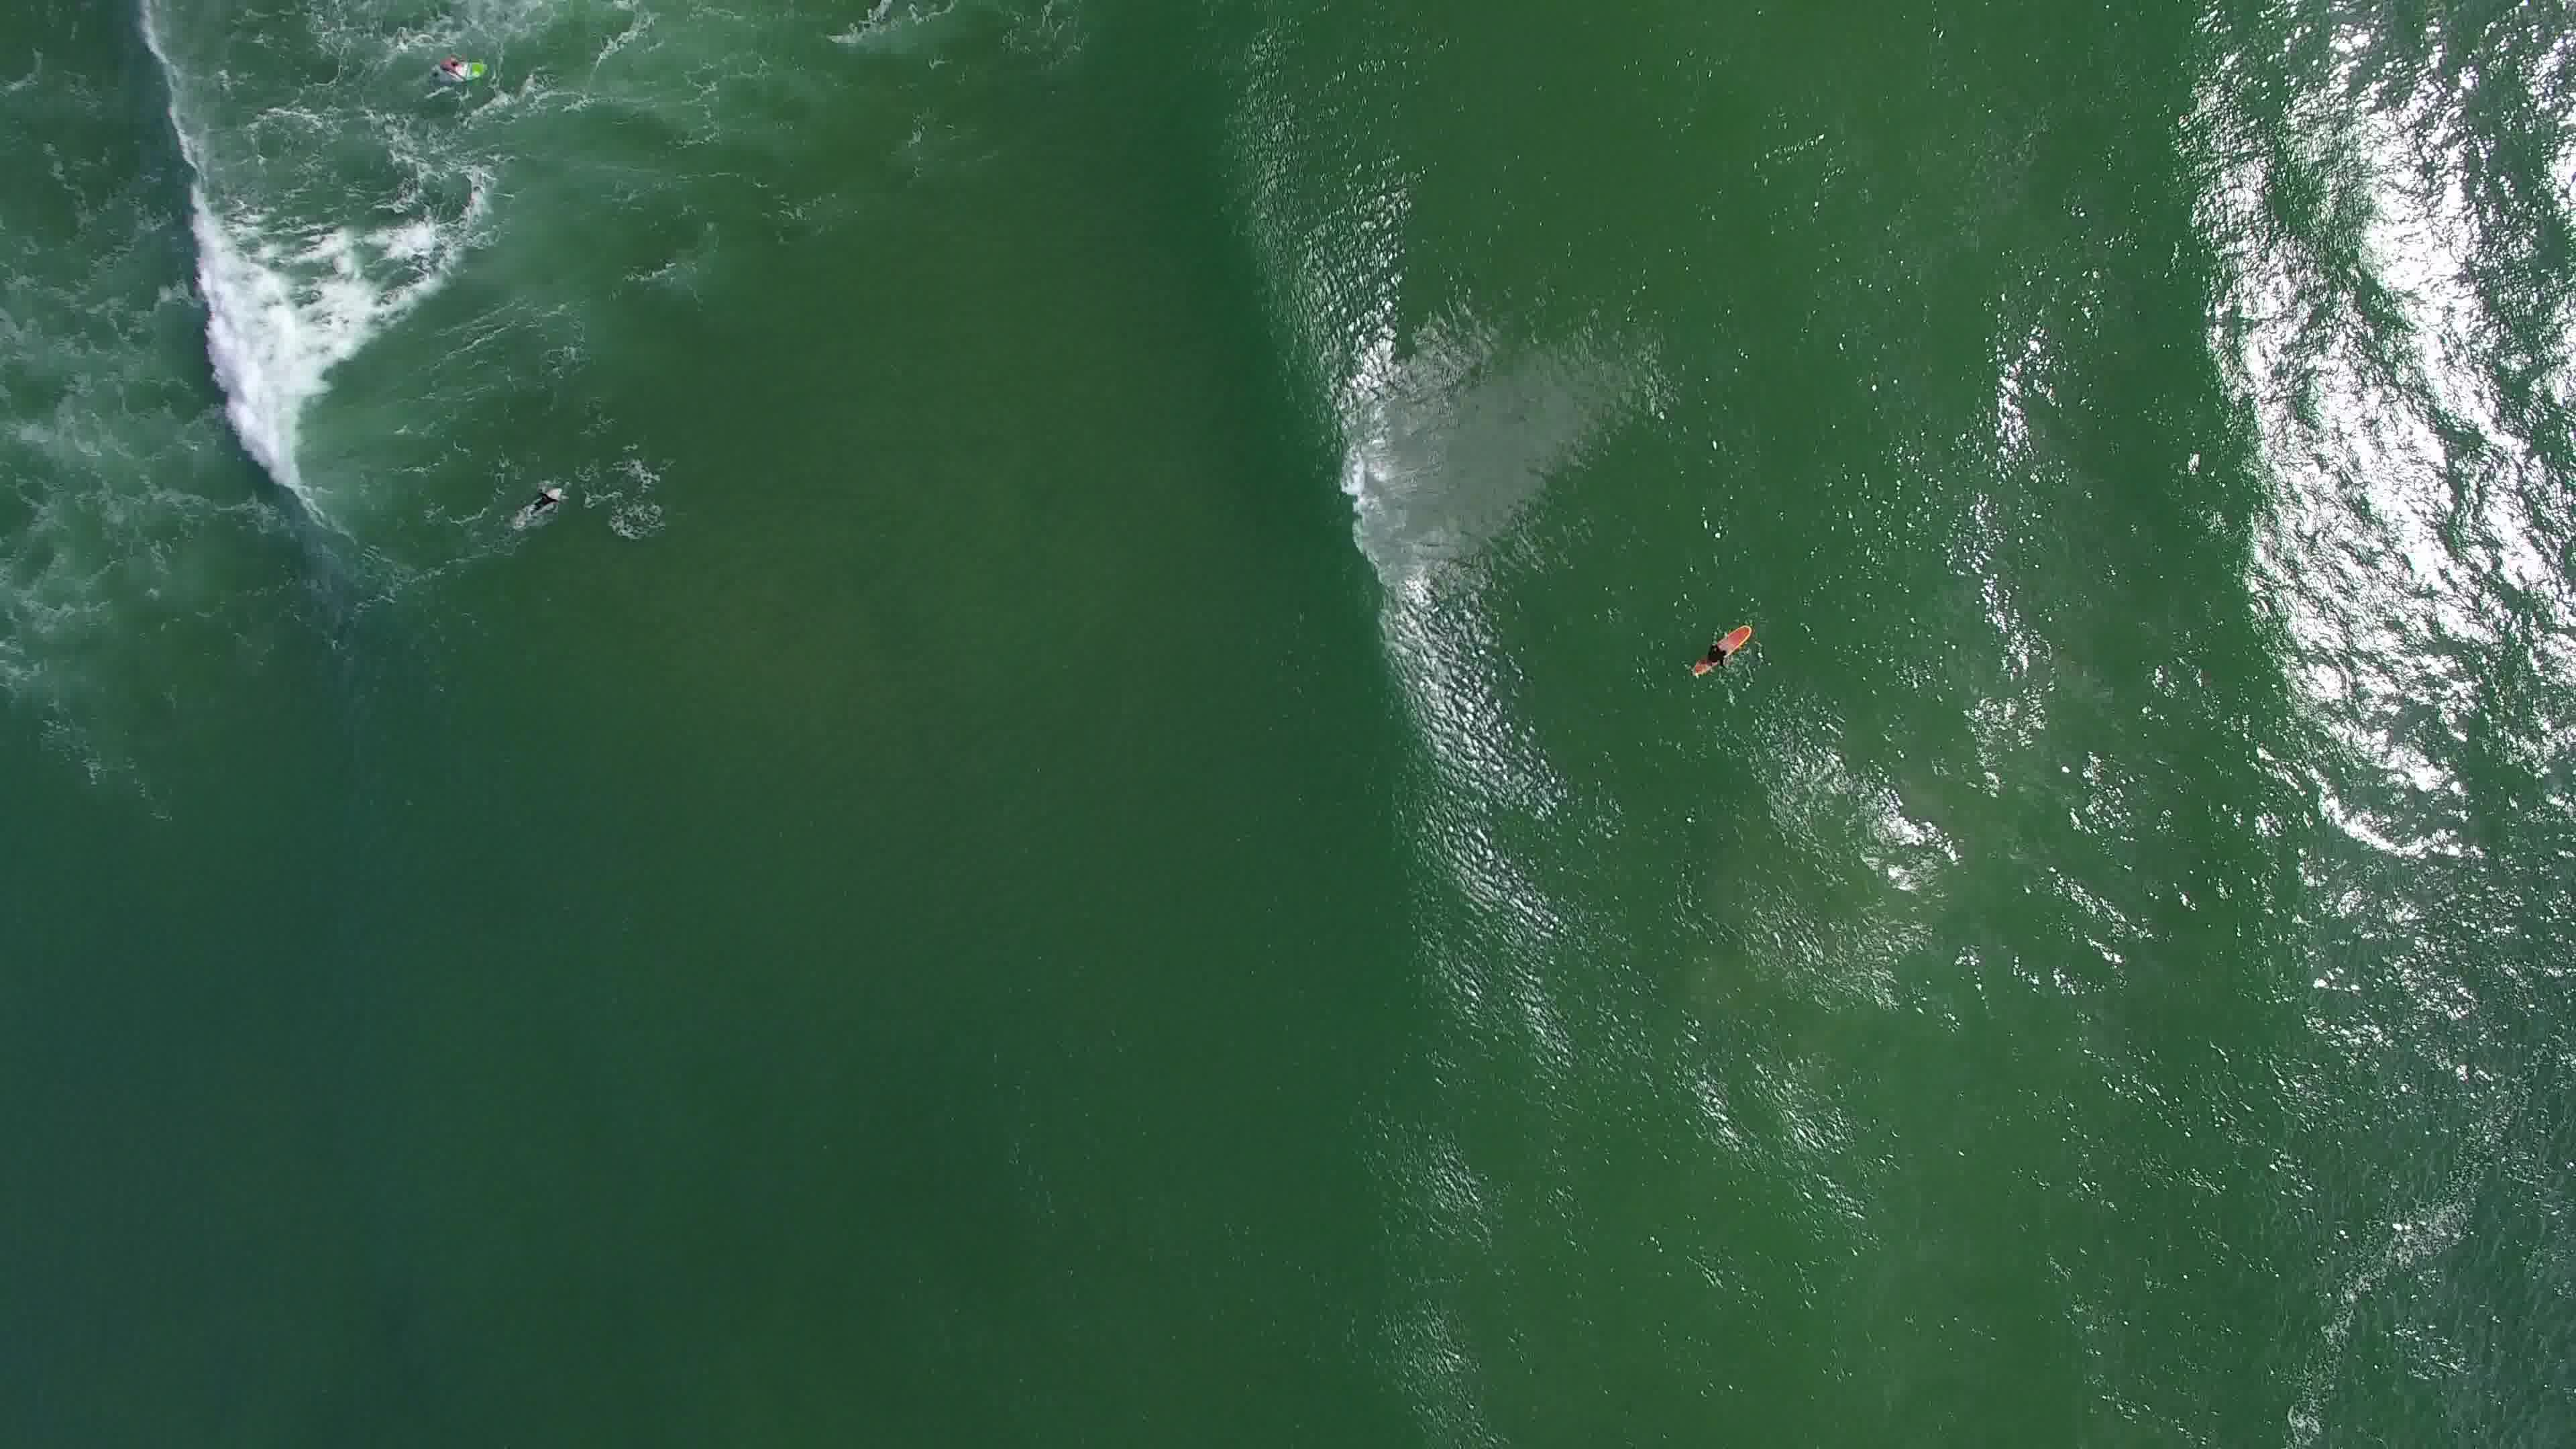surfer: (1683, 621, 1760, 685), (419, 53, 495, 92), (513, 479, 575, 524)
